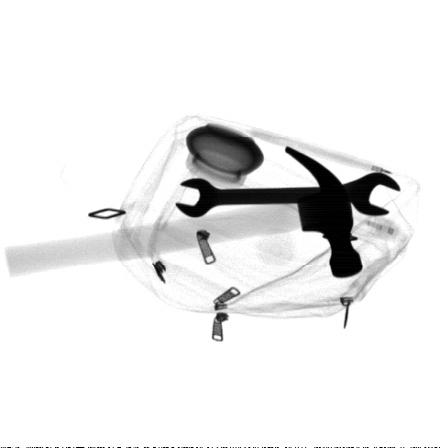Hammer: (3, 146, 363, 279)
Wrench: (173, 170, 402, 217)
